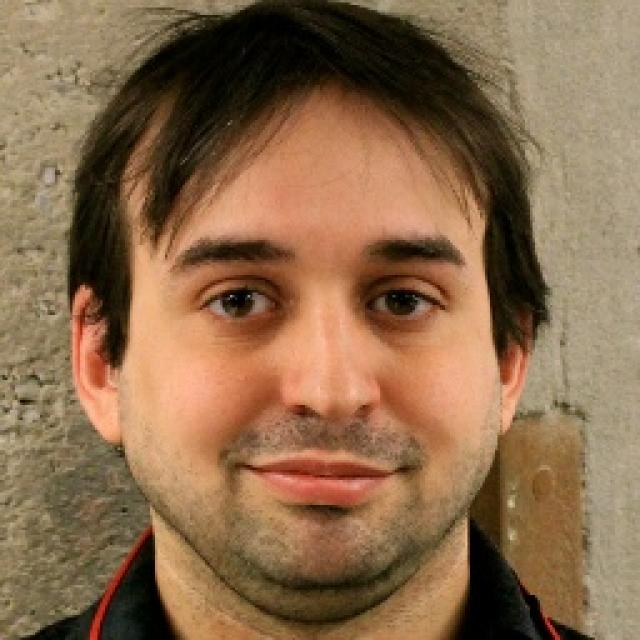earlobe: (70, 284, 124, 447), (496, 293, 536, 437)
